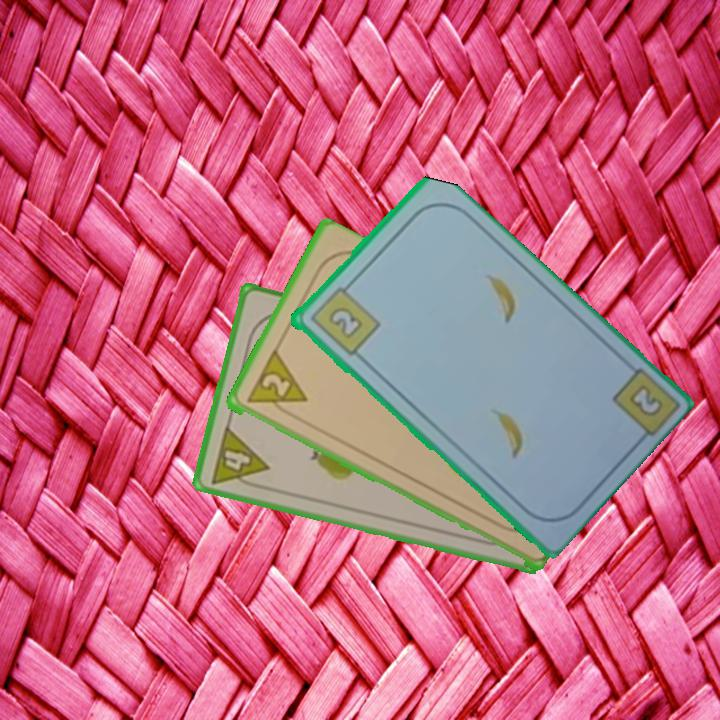2b: (305, 278, 382, 359), (625, 380, 666, 420)
2p: (242, 348, 310, 420)
4p: (207, 422, 272, 493)
